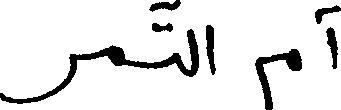X: (0, 49, 75, 108), (257, 44, 300, 109), (328, 0, 340, 73), (109, 40, 123, 70), (190, 24, 197, 81), (208, 20, 213, 79), (174, 0, 178, 72)
